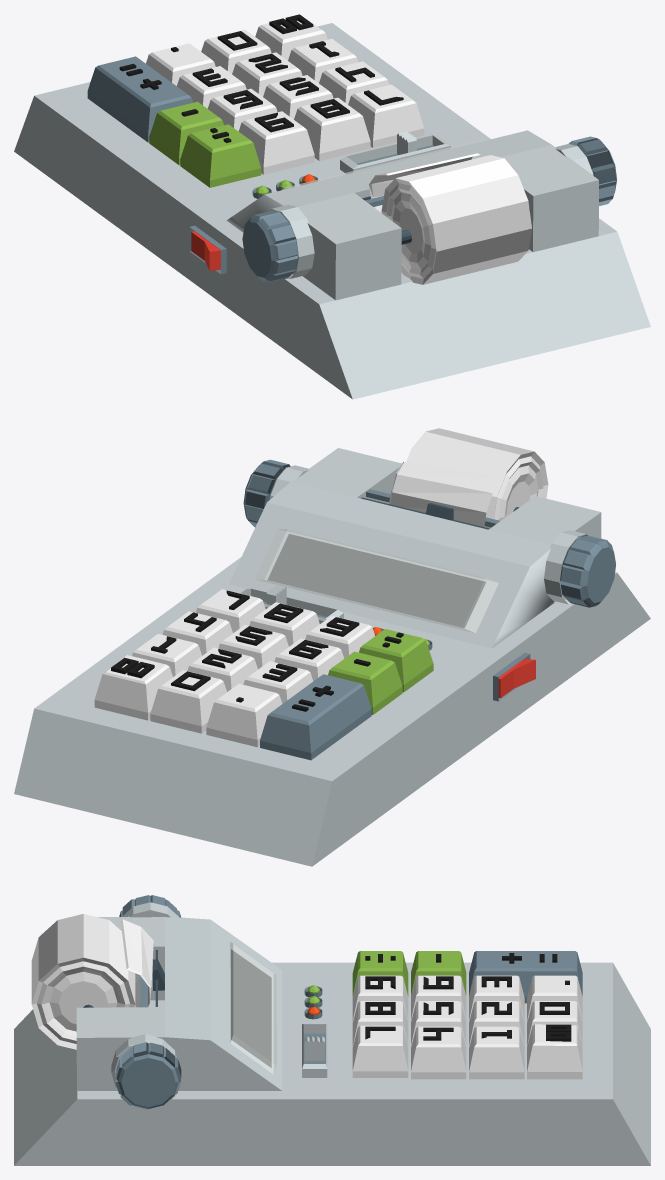
Rendered from caja tickets.fbx.
3 renders of one model, top to bottom at view 1: azimuth 30°, elevation 25°; view 2: azimuth 150°, elevation 25°; view 3: azimuth 270°, elevation 25°, orthographic. The views are drawn at different scales.
Parts seen in each view (by area): view 1: group1466548647, group48887536, group1325531539, group23065195, group1294525603, group502161026, group595121944, group1297306164, group2058303266, group389477461, group2033548222, group1296408862 (+12 smaller); view 2: group1466548647, group48887536, group127134564, group1325531539, group23065195, group1065846868, group2033548222, group595121944, group454468518, group1280017540, group389477461, group1294525603 (+13 smaller); view 3: group1466548647, group48887536, group1325531539, group127134564, group74567260, group2033548222, group23065195, group1296408862, group1587545857, group2058303266, group1065846868, group1297306164 (+14 smaller).
Boxes of the visible parts, x1,y1,x2,y2 form: group1466548647: [14, 23, 650, 399]; group48887536: [226, 130, 598, 300]; group1325531539: [381, 155, 531, 284]; group23065195: [87, 56, 192, 142]; group1294525603: [180, 124, 261, 187]; group502161026: [294, 97, 370, 160]; group595121944: [242, 210, 298, 282]; group1297306164: [238, 111, 314, 174]; group2058303266: [348, 84, 424, 147]; group389477461: [149, 101, 223, 165]; group2033548222: [255, 14, 327, 60]; group1296408862: [288, 39, 358, 83]; group1466548647: [14, 557, 650, 866]; group48887536: [229, 448, 601, 648]; group127134564: [255, 529, 498, 633]; group1325531539: [406, 428, 548, 528]; group23065195: [260, 674, 371, 760]; group1065846868: [389, 461, 501, 527]; group2033548222: [94, 655, 172, 720]; group595121944: [560, 535, 615, 607]; group454468518: [206, 684, 282, 747]; group1280017540: [150, 670, 226, 733]; group389477461: [328, 651, 402, 714]; group1294525603: [359, 629, 433, 692]; group1466548647: [14, 962, 650, 1165]; group48887536: [76, 916, 282, 1090]; group1325531539: [31, 914, 135, 1049]; group127134564: [230, 942, 276, 1074]; group74567260: [115, 1042, 181, 1109]; group2033548222: [527, 1024, 582, 1079]; group23065195: [469, 951, 582, 1003]; group1296408862: [469, 1026, 524, 1079]; group1587545857: [411, 1026, 466, 1079]; group2058303266: [352, 1025, 408, 1077]; group1065846868: [120, 919, 153, 1007]; group1297306164: [352, 975, 408, 1022].
Bounding box in the file's own units: 148 × 70.5 × 252.
